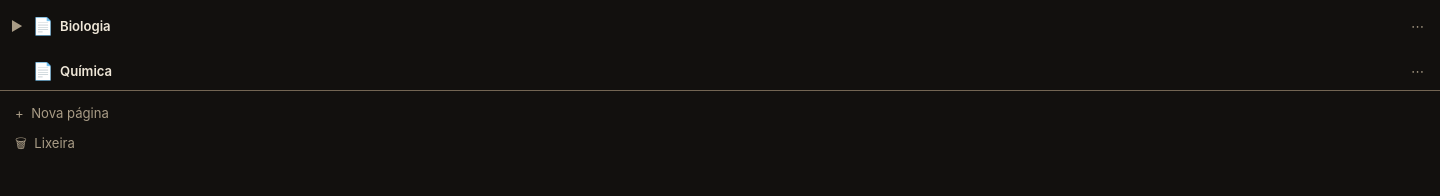
PageTree › expandir Biologia revela Células; colapsar esconde de novo
Step 1. Click the button named "Expandir" → [17, 26], box [8, 17, 26, 36]
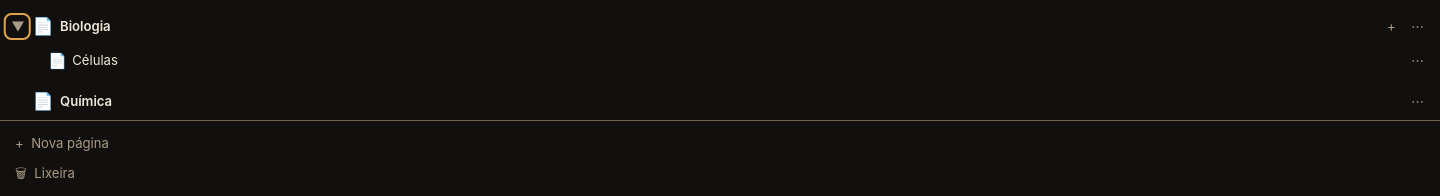
expect the list item "📄 Células ⋯" is shown: met, box [8, 45, 1432, 75]
Step 2. Click the button named "Recolher" → [17, 26], box [8, 17, 26, 36]
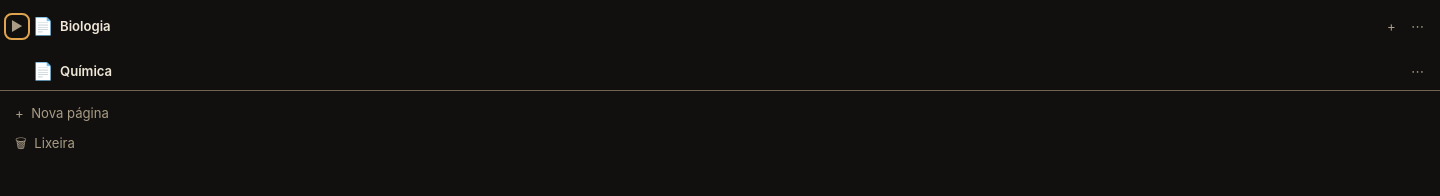
expect the button "Células" is gone: met
